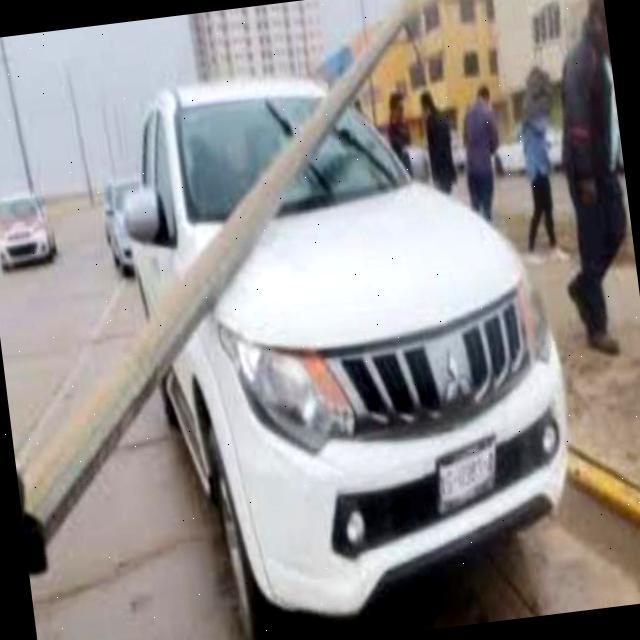Broken Pole: (16, 2, 432, 582)
